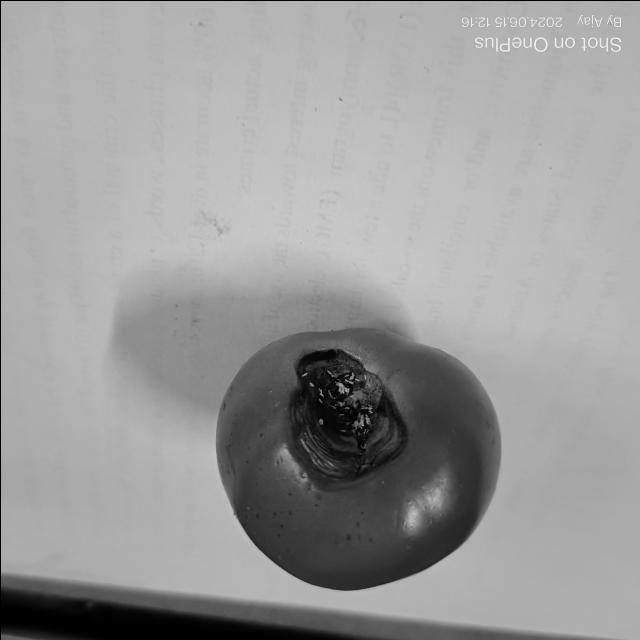Anthrocnose: (284, 348, 410, 484)
